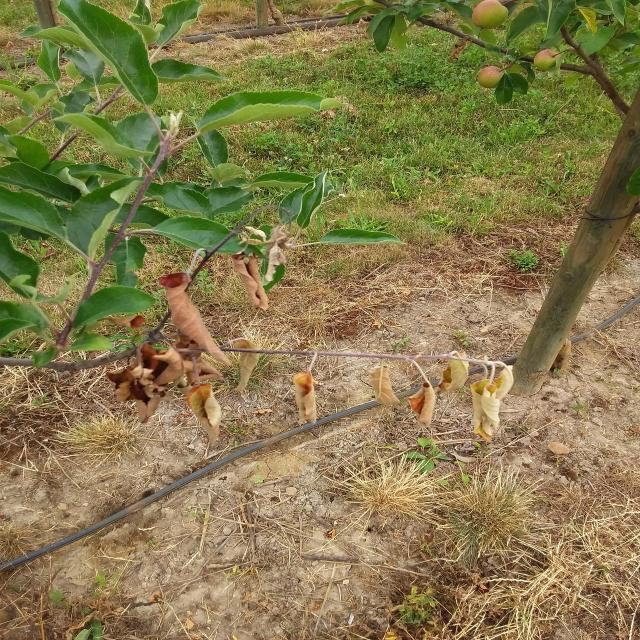-FireBlight-: (143, 259, 230, 444), (206, 224, 304, 306), (120, 348, 186, 401), (468, 340, 504, 430), (402, 354, 428, 414), (366, 356, 394, 408), (304, 342, 320, 423), (448, 348, 463, 395)
